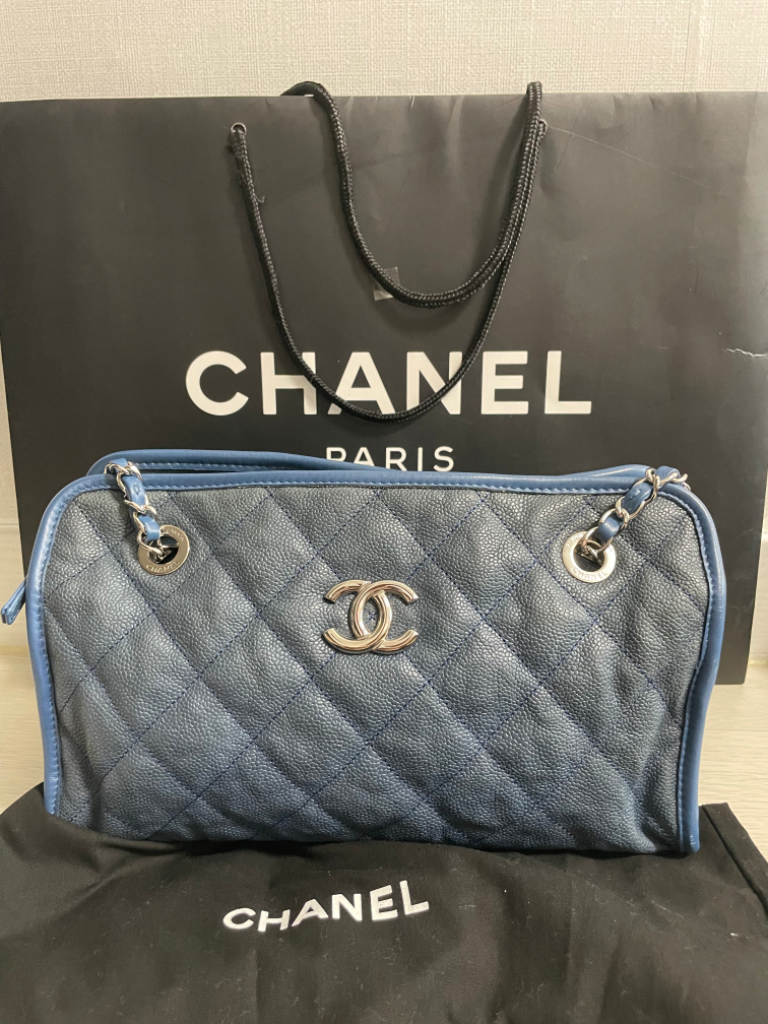channel: (48, 459, 725, 856), (309, 582, 449, 680)
